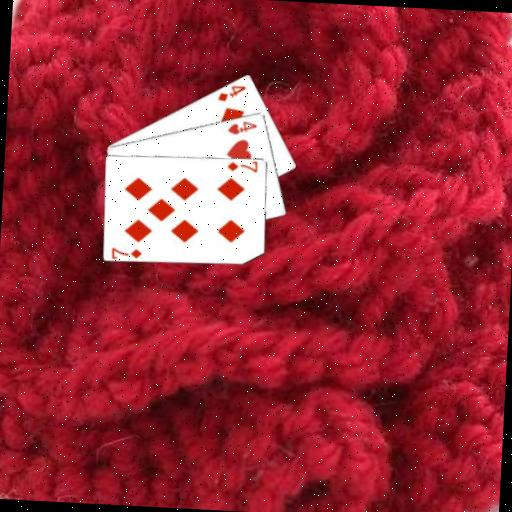4D: (215, 81, 248, 104)
4H: (225, 117, 259, 137)
7D: (108, 244, 144, 260), (224, 159, 260, 174)
